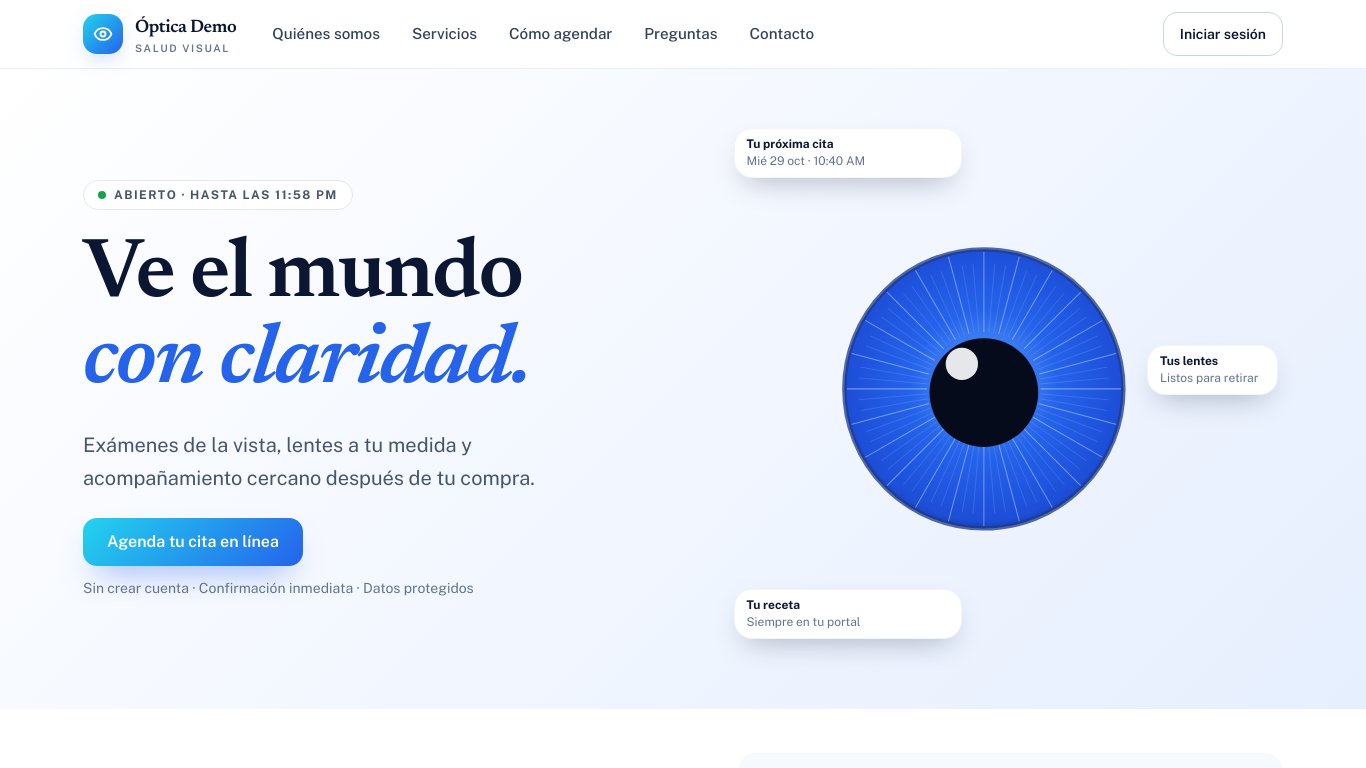
Ventana de ingreso › sin teléfono configurado no hay botones muertos
What coordinates should you click on to do the following:
click the button "Iniciar sesión"
I would click on:
 (1223, 34)
Its box is [1163,12,1283,56].
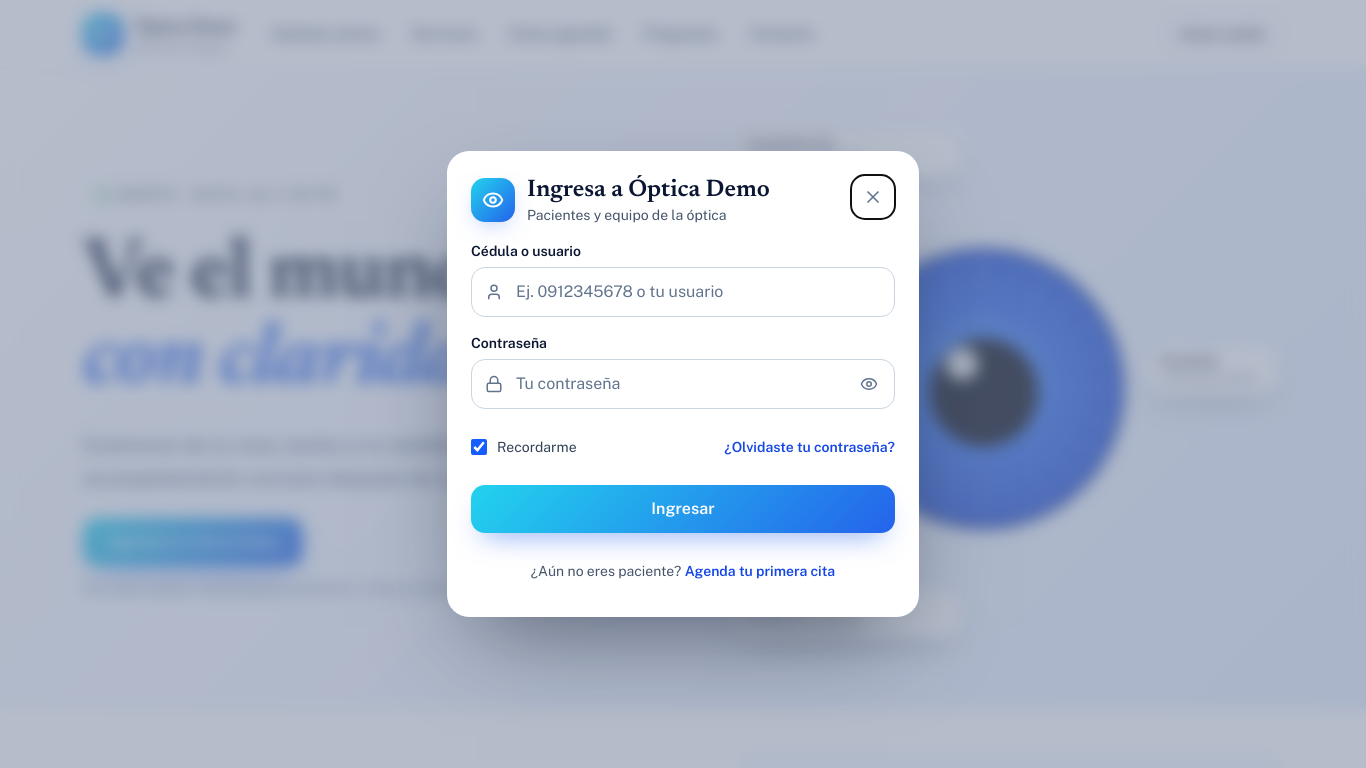
What coordinates should you click on to do the following:
click the button "¿Olvidaste tu contraseña?"
I would click on:
 (810, 447)
Its box is [724,425,895,469].
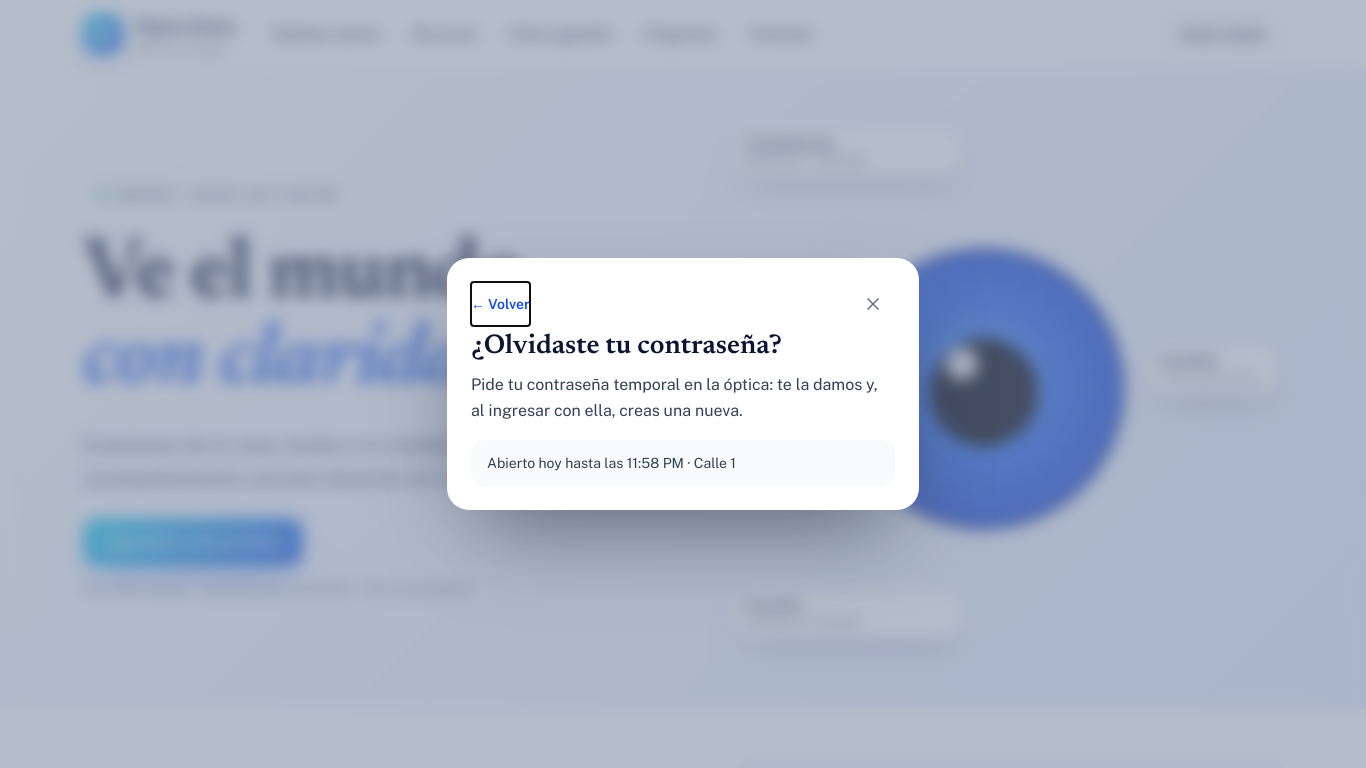
Expected: the text "Pide tu contraseña temporal en la óptica" is shown, [471,375,878,420]
Expected: the text "Abierto hoy hasta las 11:58 PM · Calle 1" is shown, [471,440,895,486]
